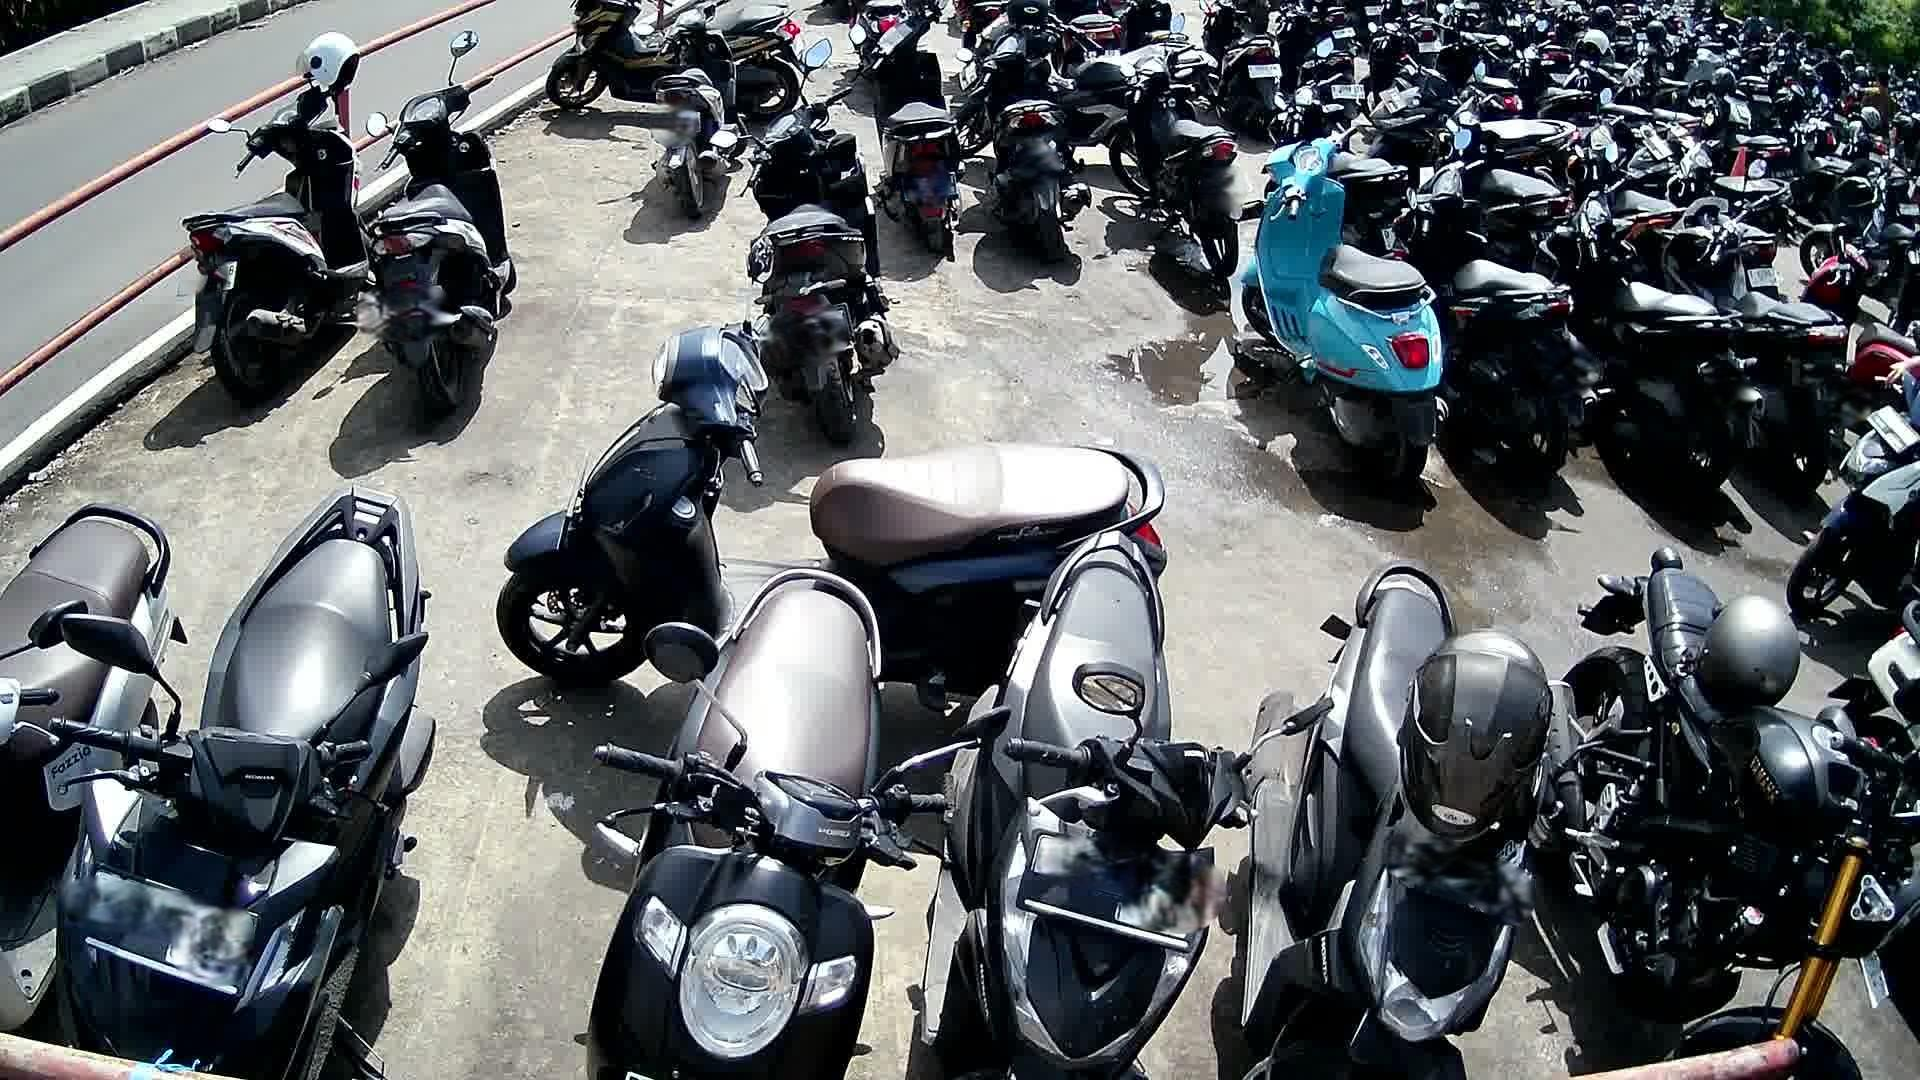motorcycle: (496, 237, 1168, 685), (915, 529, 1333, 1080), (55, 487, 435, 1080), (594, 565, 1012, 1080), (1545, 543, 1920, 1080), (1241, 560, 1616, 1080), (0, 503, 191, 1038), (1528, 140, 1763, 507), (1387, 129, 1609, 504), (709, 38, 905, 447), (1240, 123, 1448, 498), (1652, 160, 1855, 499), (178, 84, 376, 402), (364, 32, 519, 420), (1786, 361, 1920, 616), (1802, 229, 1920, 410)
